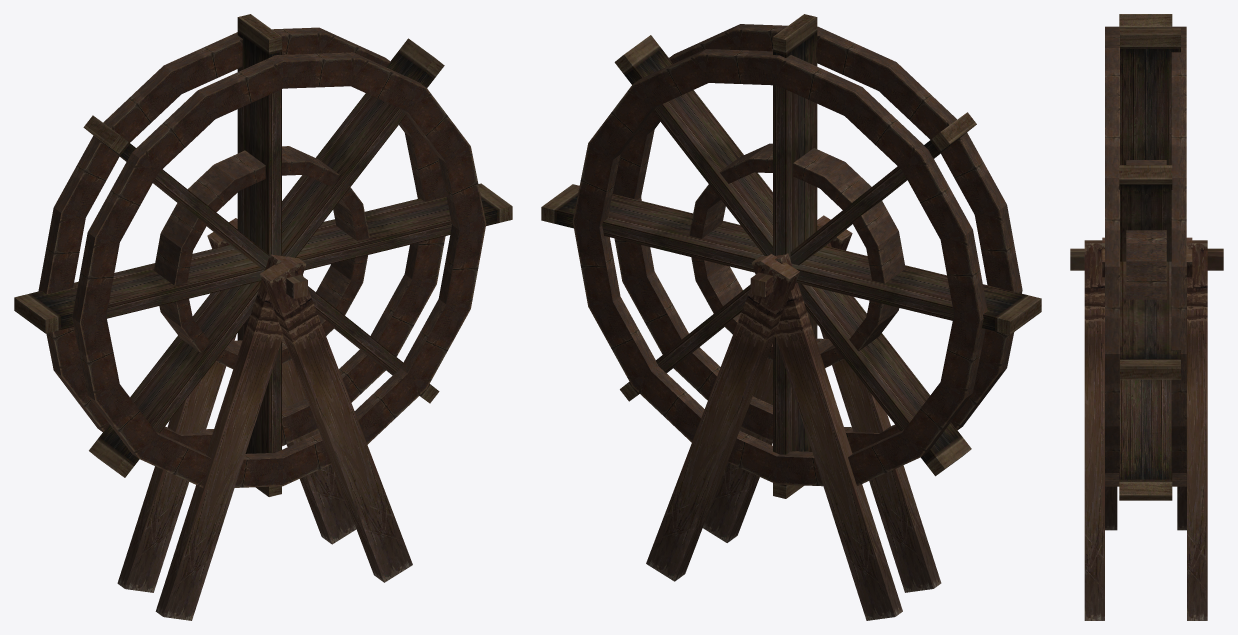
The model's file is s7_shuichezhuan.FBX.
3 renders of one model, left to right at view 1: azimuth 30°, elevation 25°; view 2: azimuth 150°, elevation 25°; view 3: azimuth 270°, elevation 25°, orthographic. The views are drawn at different scales.
Parts seen in each view (by area): view 1: Object001, Box07; view 2: Object001, Box07; view 3: Object001, Box07.
Part boxes in pixels (box(x1,y1,x2,y2)): Object001: box(14, 14, 512, 496); Box07: box(117, 218, 412, 620); Object001: box(541, 14, 1041, 498); Box07: box(646, 215, 941, 620); Object001: box(1105, 14, 1186, 500); Box07: box(1070, 237, 1223, 620).
Size of the model in its own units: 0.2142 by 0.2426 by 0.0621.
